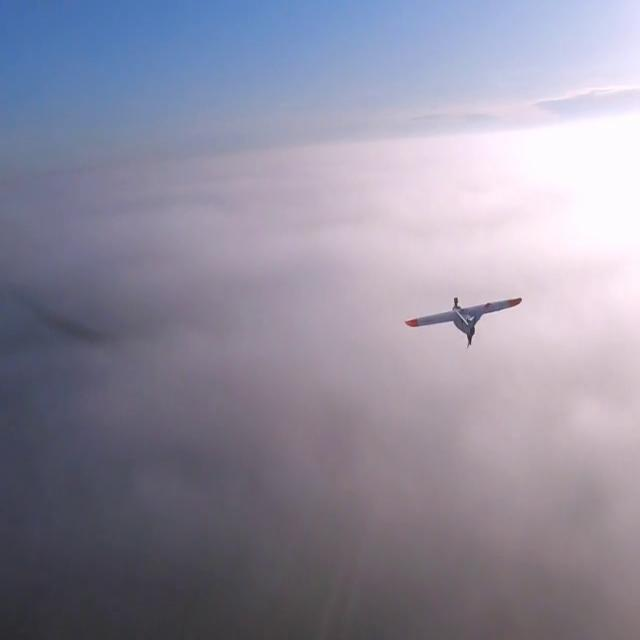iha: (438, 297, 490, 348)
